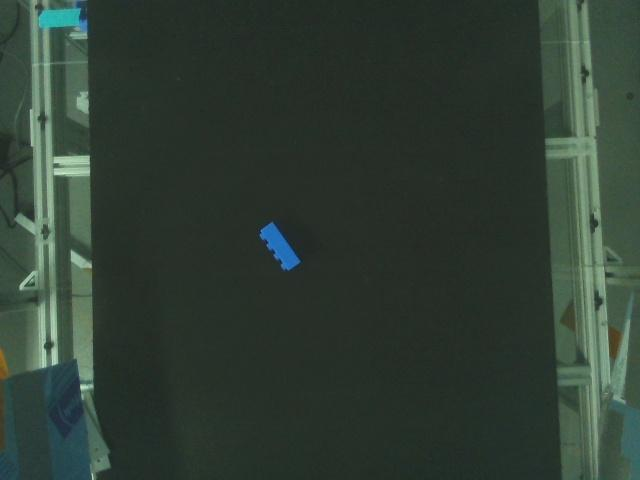plastic: (259, 221, 302, 273)
